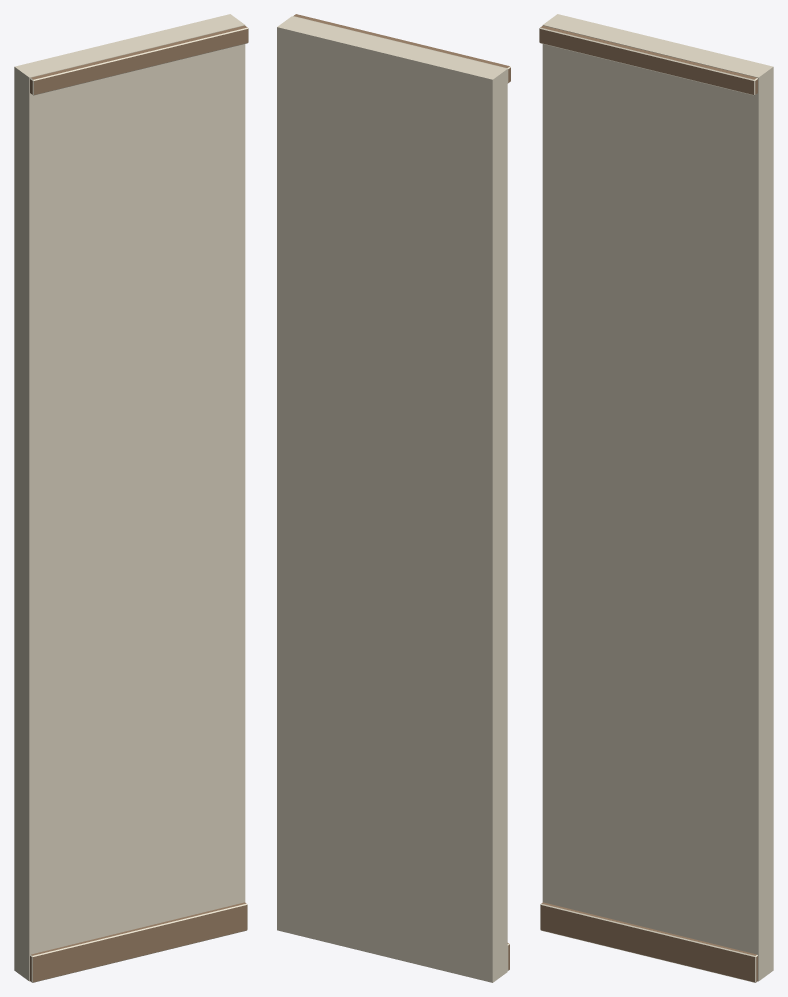
Rendered from muro_400.glb.
3 views of the same model, side by side, from view 1: azimuth 30°, elevation 25°; view 2: azimuth 150°, elevation 25°; view 3: azimuth 330°, elevation 25° (orthographic).
Visible parts, largest first — view 1: muro_400; view 2: muro_400; view 3: muro_400.
Part boxes in pixels (left/top/right/bottom): muro_400: left=14, top=14, right=248, bottom=982; muro_400: left=277, top=14, right=510, bottom=982; muro_400: left=539, top=14, right=773, bottom=982.
Size of the model in its own units: 1 by 4 by 0.15.
